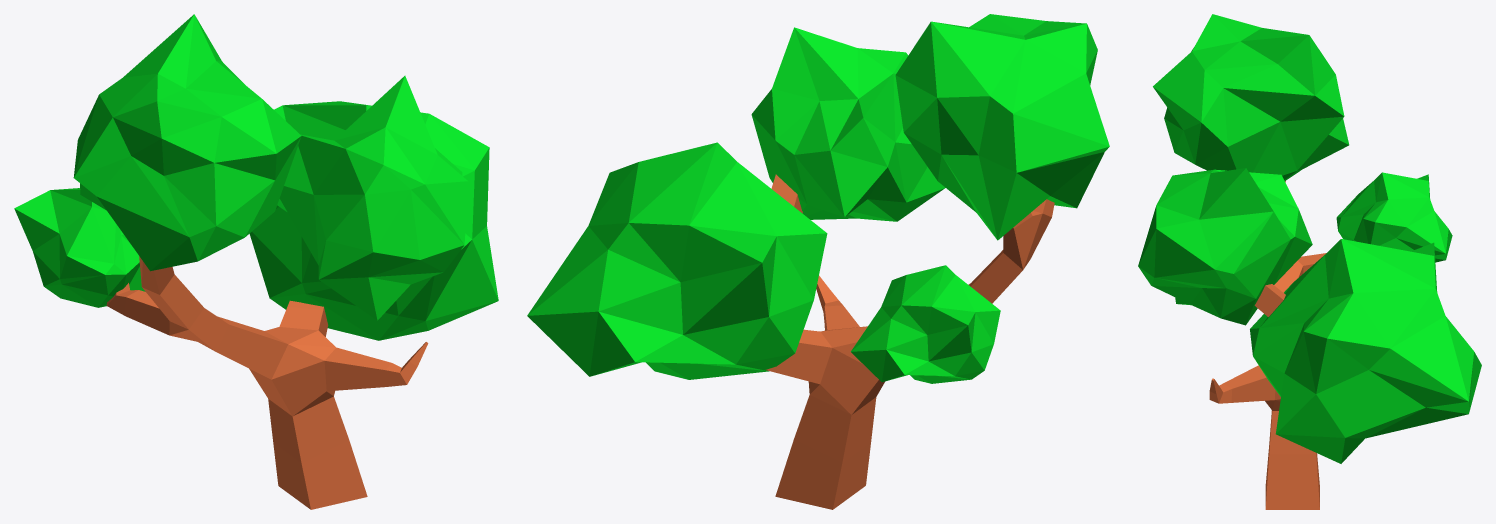
File: LowPolyTree1.fbx
The picture shows the model from 3 angles, left to right: view 1: azimuth 30°, elevation 25°; view 2: azimuth 150°, elevation 25°; view 3: azimuth 270°, elevation 25°; orthographic projection. The views are drawn at different scales.
Parts seen in each view (by area): view 1: Cube.001; view 2: Cube.001; view 3: Cube.001.
Boxes of the visible parts, <box> form: Cube.001: <box>14,14,498,509</box>; Cube.001: <box>527,14,1109,509</box>; Cube.001: <box>1138,14,1481,509</box>.
Bounding box in the file's own units: 831 × 873 × 655.
